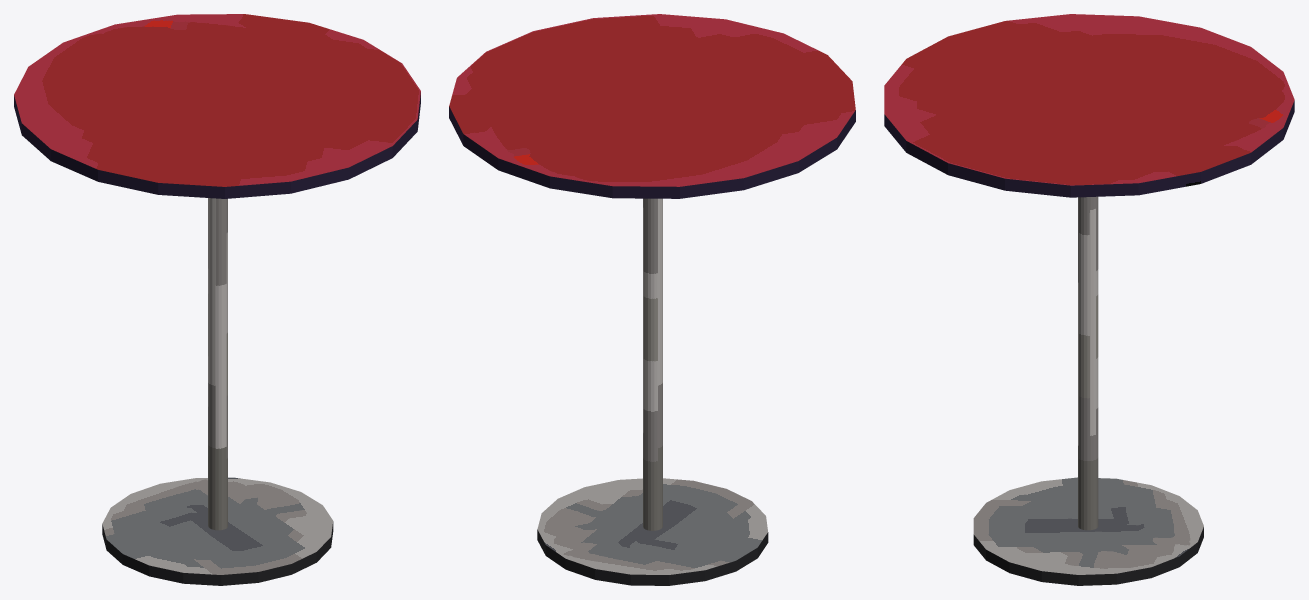
Rendered from tes.fbx.
The picture shows the model from 3 angles, left to right: view 1: azimuth 30°, elevation 25°; view 2: azimuth 150°, elevation 25°; view 3: azimuth 270°, elevation 25°; orthographic projection.
Visible parts, largest first — view 1: Cylinder.001; view 2: Cylinder.001; view 3: Cylinder.001.
Part boxes in pixels (<box>): Cylinder.001: <box>14,14,420,585</box>; Cylinder.001: <box>449,14,855,585</box>; Cylinder.001: <box>884,14,1294,585</box>.
Size of the model in its own units: 347 by 412 by 350.
1 material, 1 textured.
